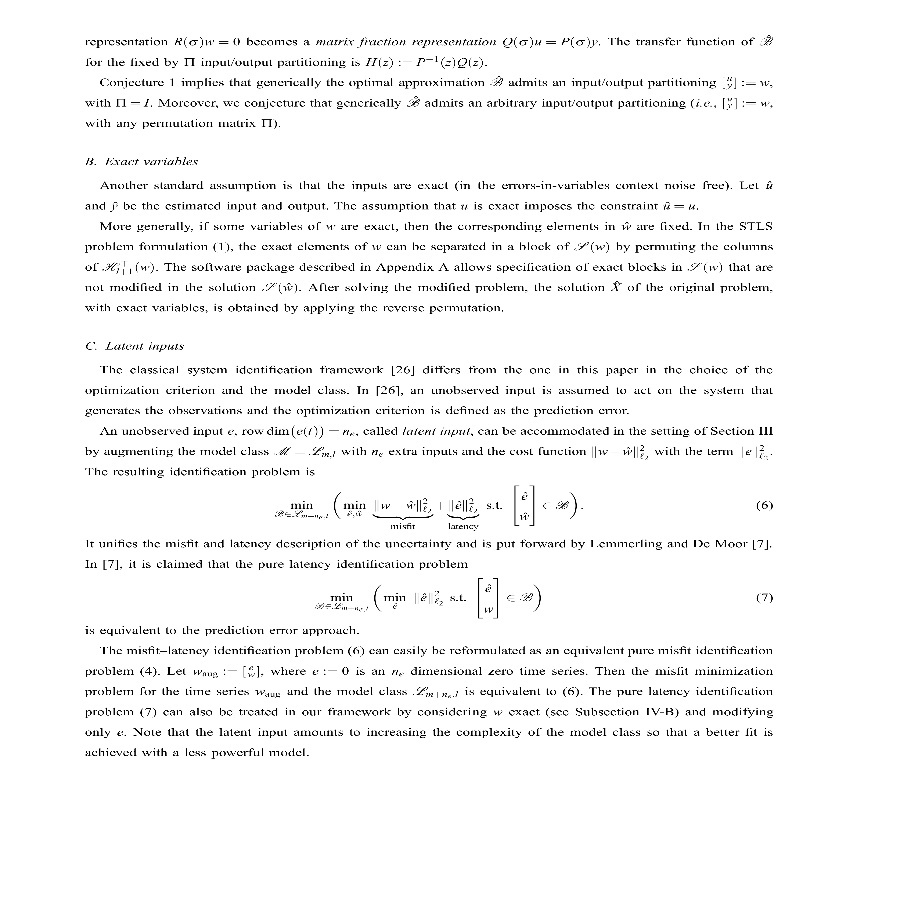eq: (272, 483, 582, 529), (315, 572, 554, 623)
